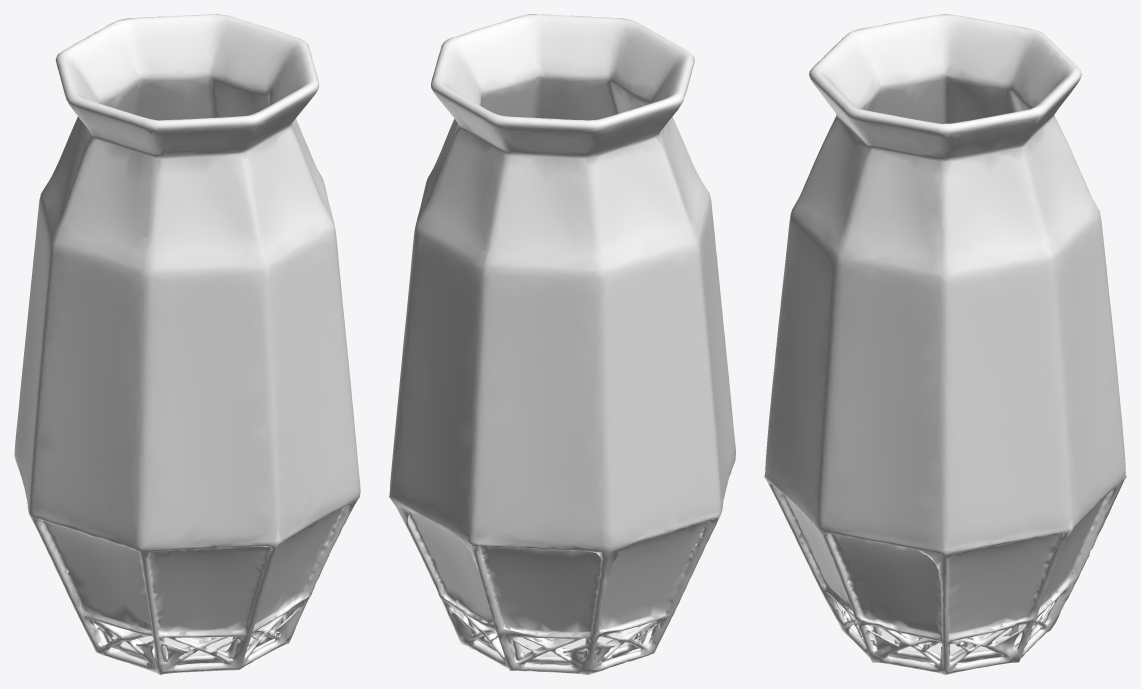
The model's file is sample_vase.glb.
The picture shows the model from 3 angles, left to right: view 1: azimuth 30°, elevation 25°; view 2: azimuth 150°, elevation 25°; view 3: azimuth 270°, elevation 25°; orthographic projection.
Bounding box in the file's own units: 1.12 × 1.91 × 1.12.
1 material, 1 textured.
